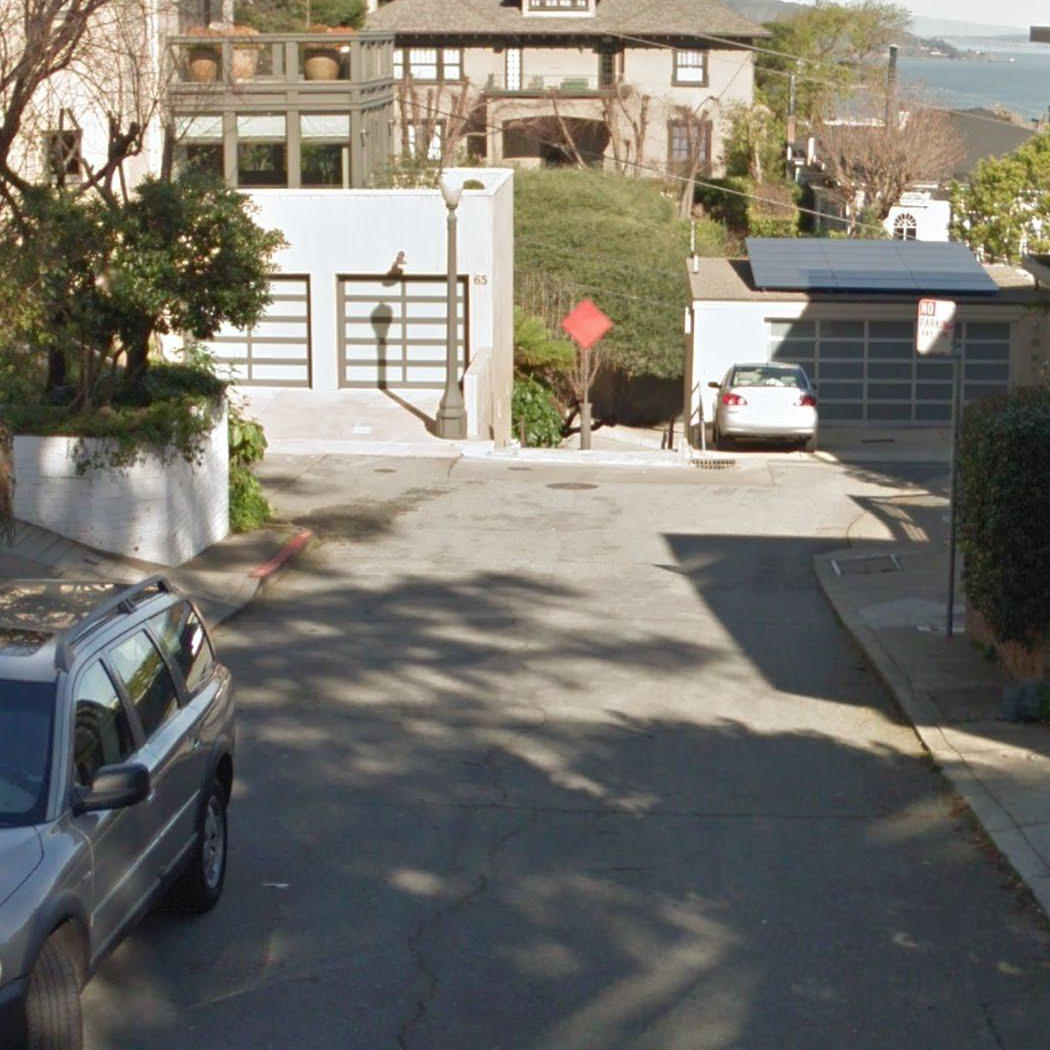No Parking Anytime: (915, 298, 956, 358)
